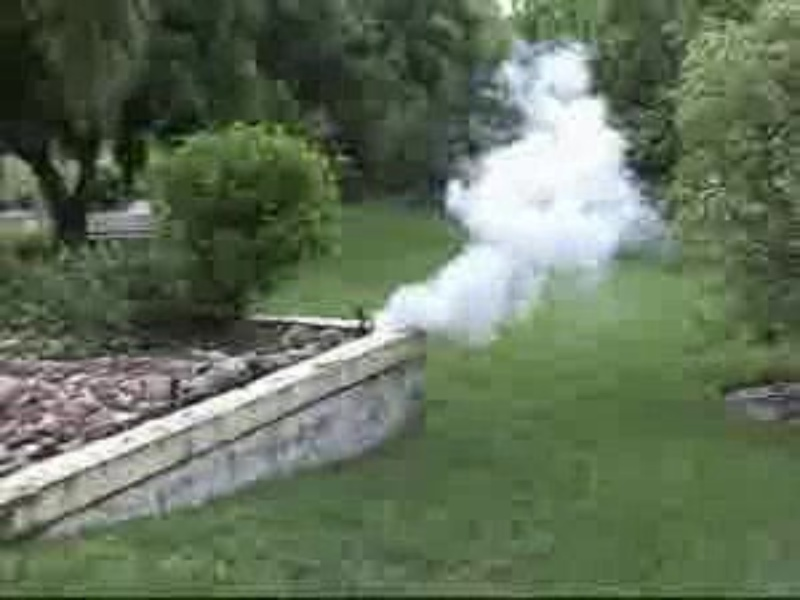smoke: (449, 41, 612, 270)
